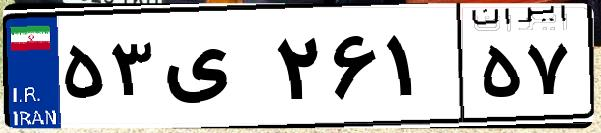1: (385, 28, 445, 110)
2: (270, 28, 330, 110)
3: (110, 28, 158, 98)
5: (57, 26, 110, 100), (475, 38, 525, 113)
6: (330, 28, 385, 110)
7: (525, 38, 570, 115)
ی: (158, 20, 270, 120)
